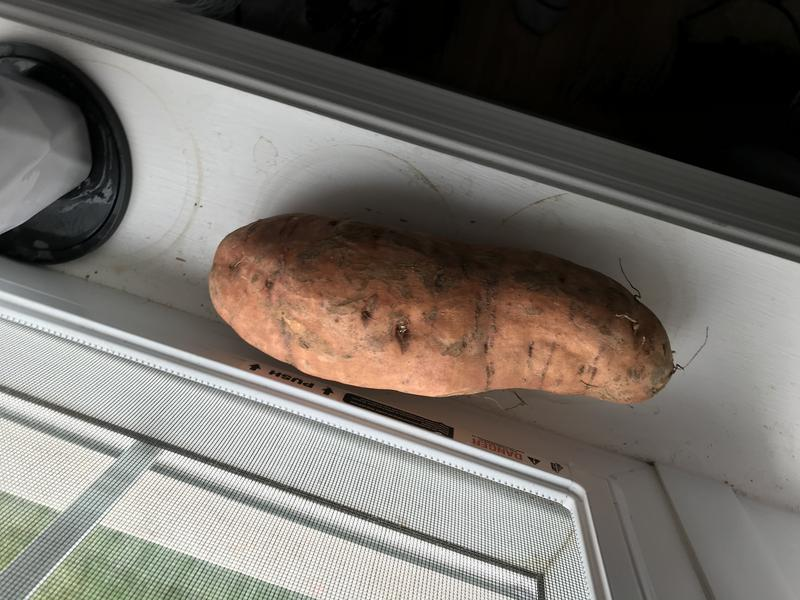sweet_potato: (198, 205, 688, 422)
